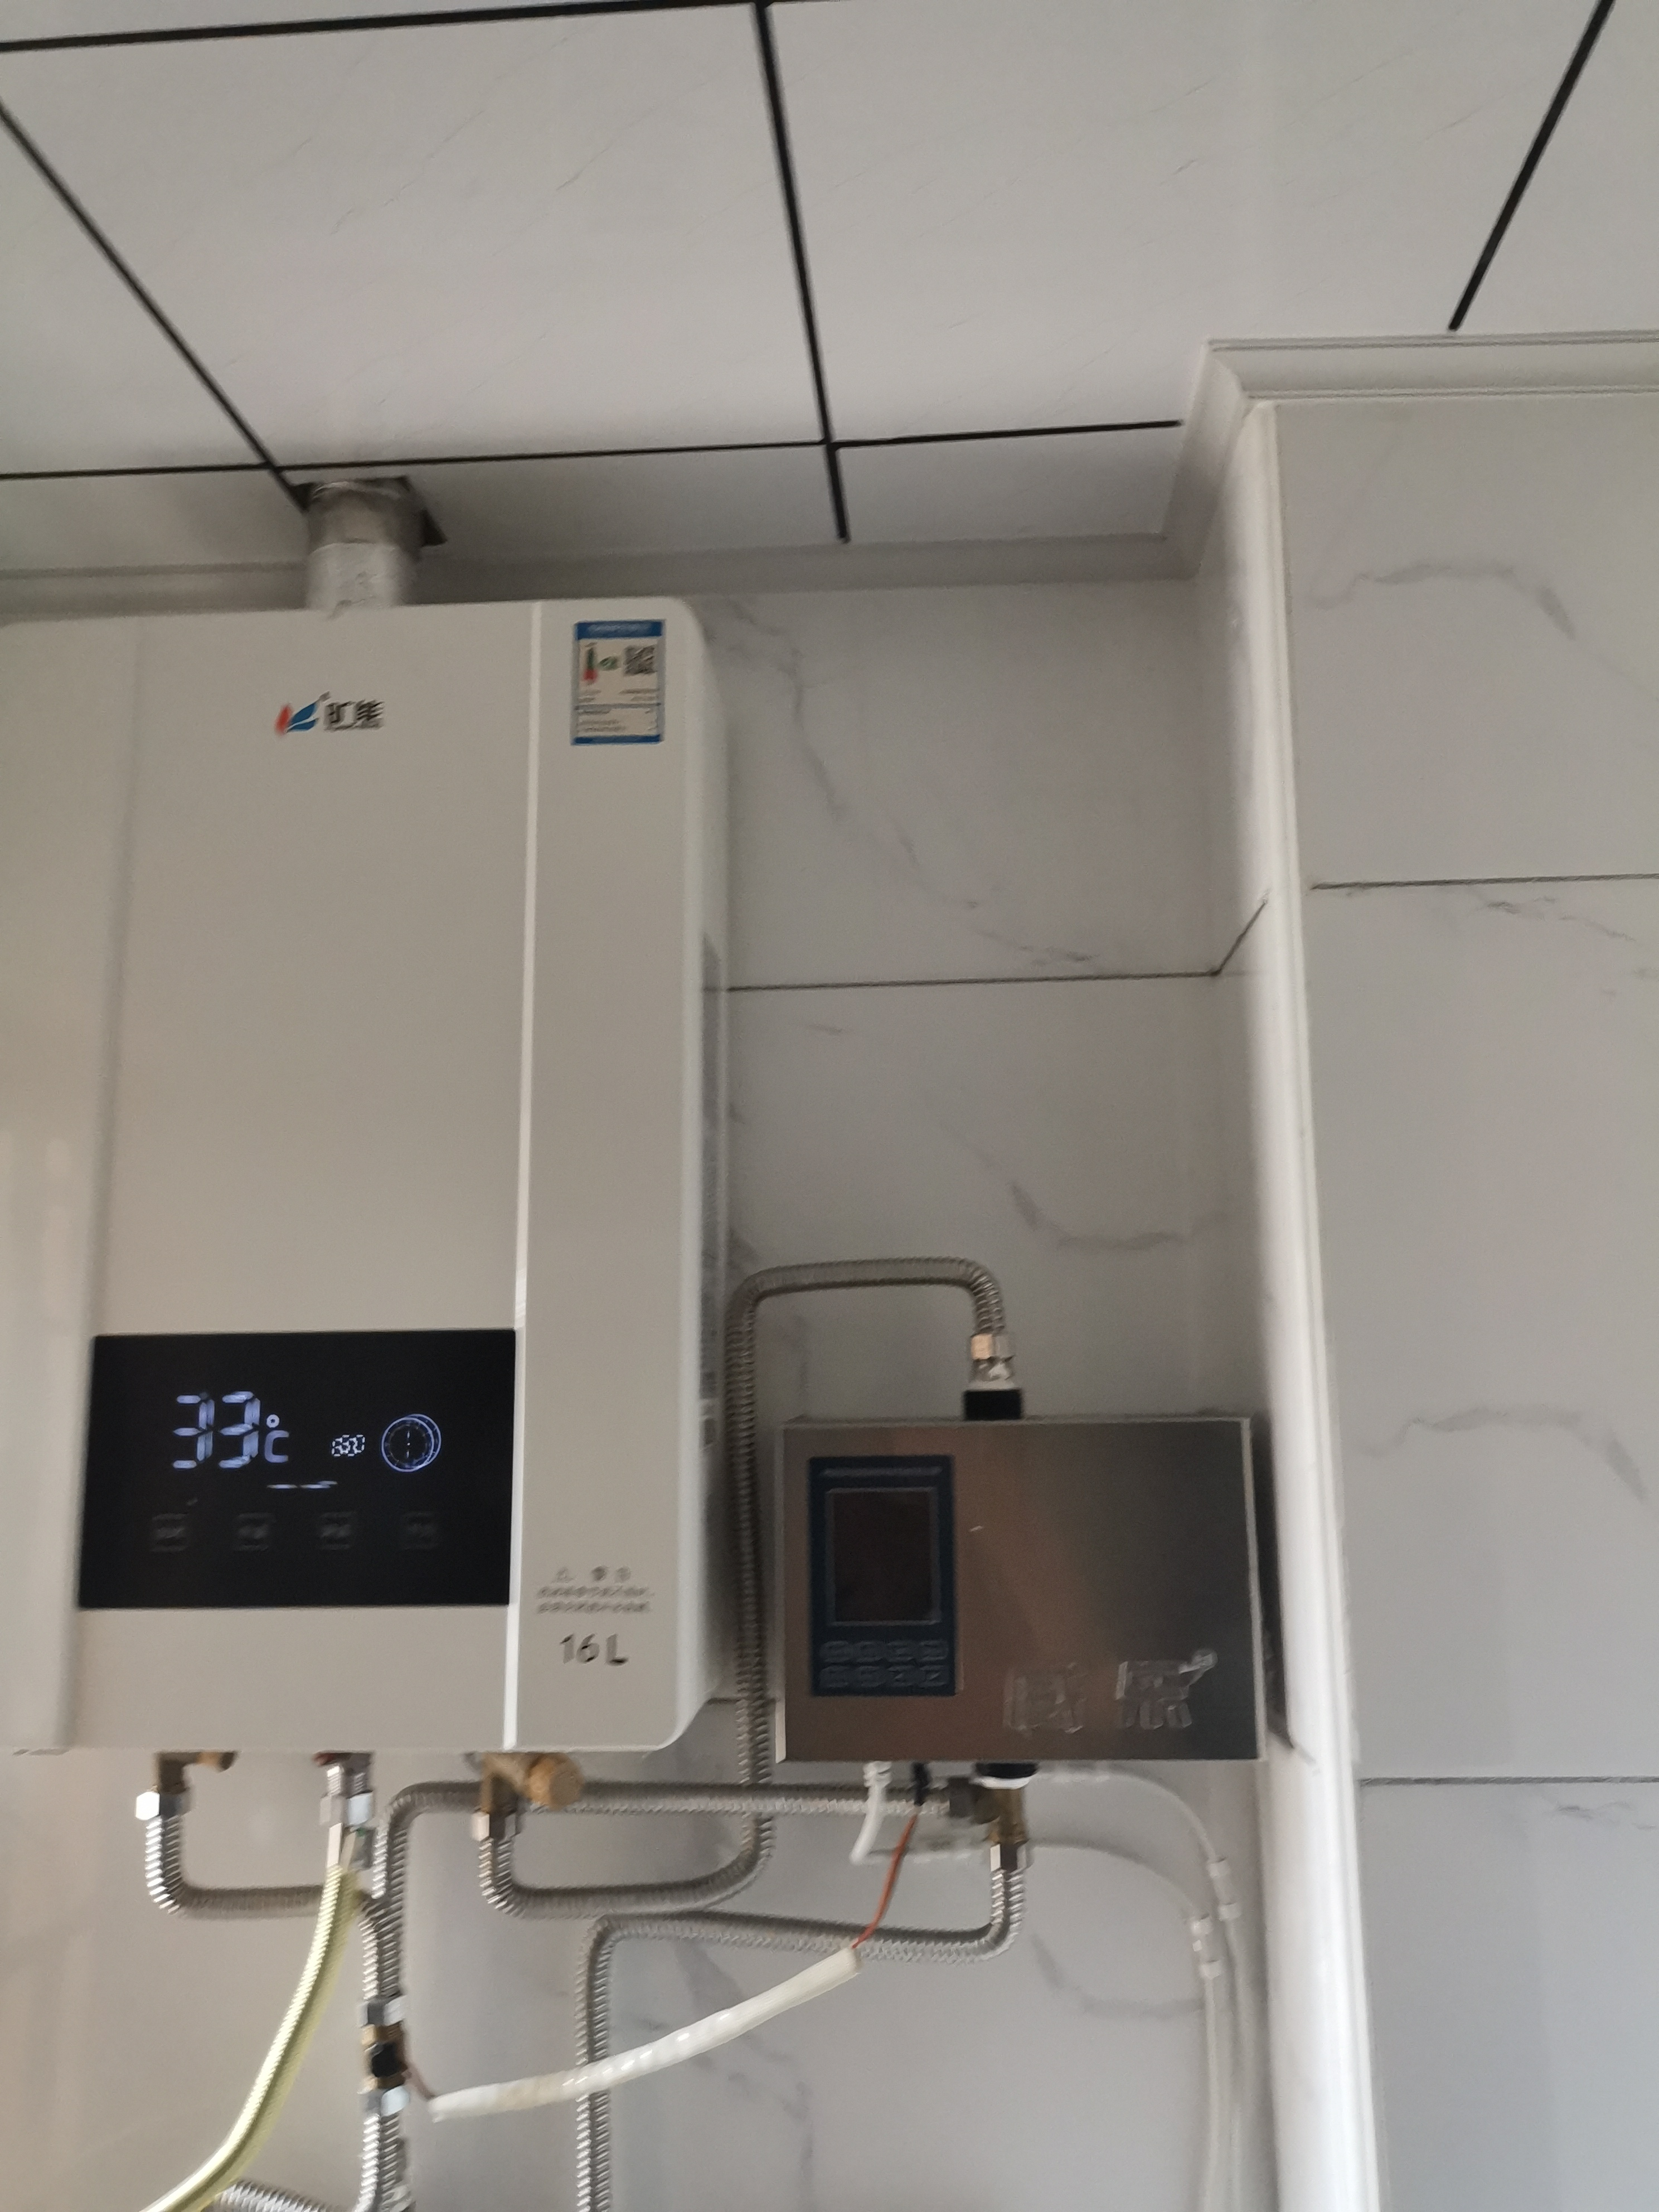loudou: (261, 686, 413, 745)
